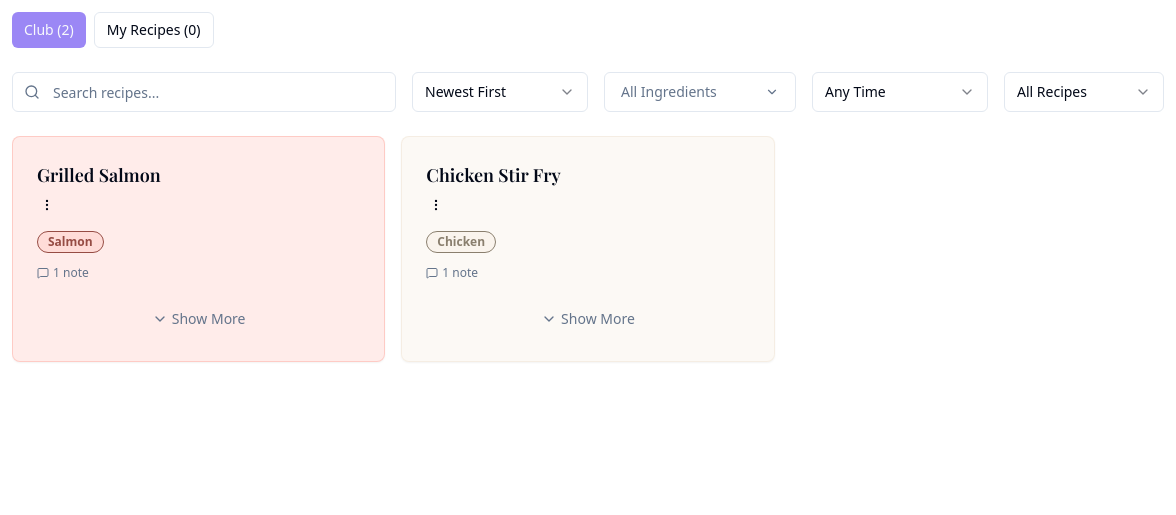
RecipeHub - Ingredient Filtering › search only matches recipe names (not notes content)
Expected: the heading "Grilled Salmon" is shown, [37, 163, 161, 187]
"lemon" appears in notes for Grilled Salmon but not in any recipe name
Type "lemon" into the field with placeholder "Search recipes..." at {"x": 204, "y": 92}, box [12, 72, 396, 112]
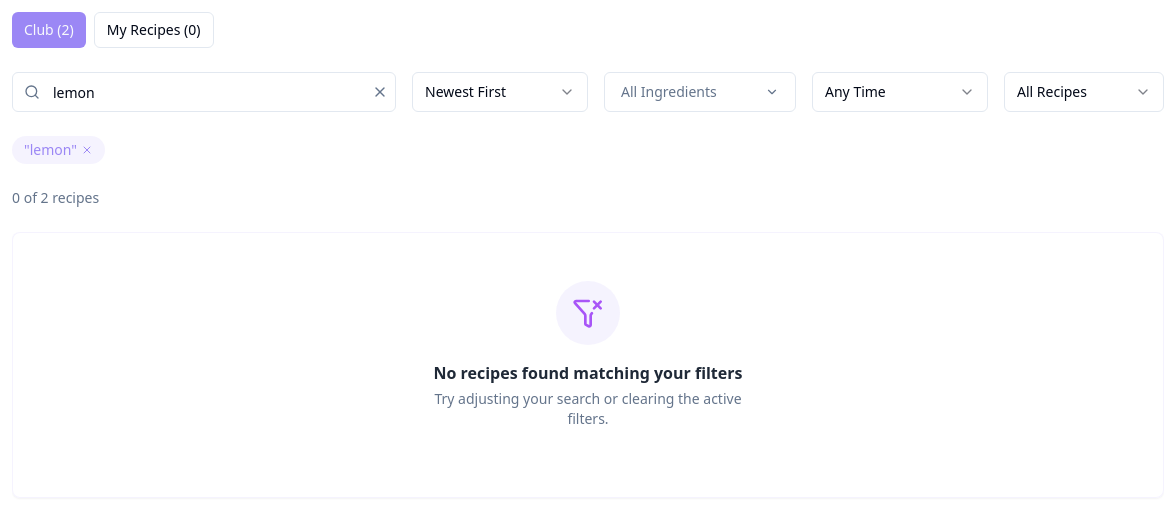
Now the heading "Grilled Salmon" is gone
Now the heading "Chicken Stir Fry" is gone
Now the text "No recipes found matching your filters" is shown, box [434, 361, 742, 385]
